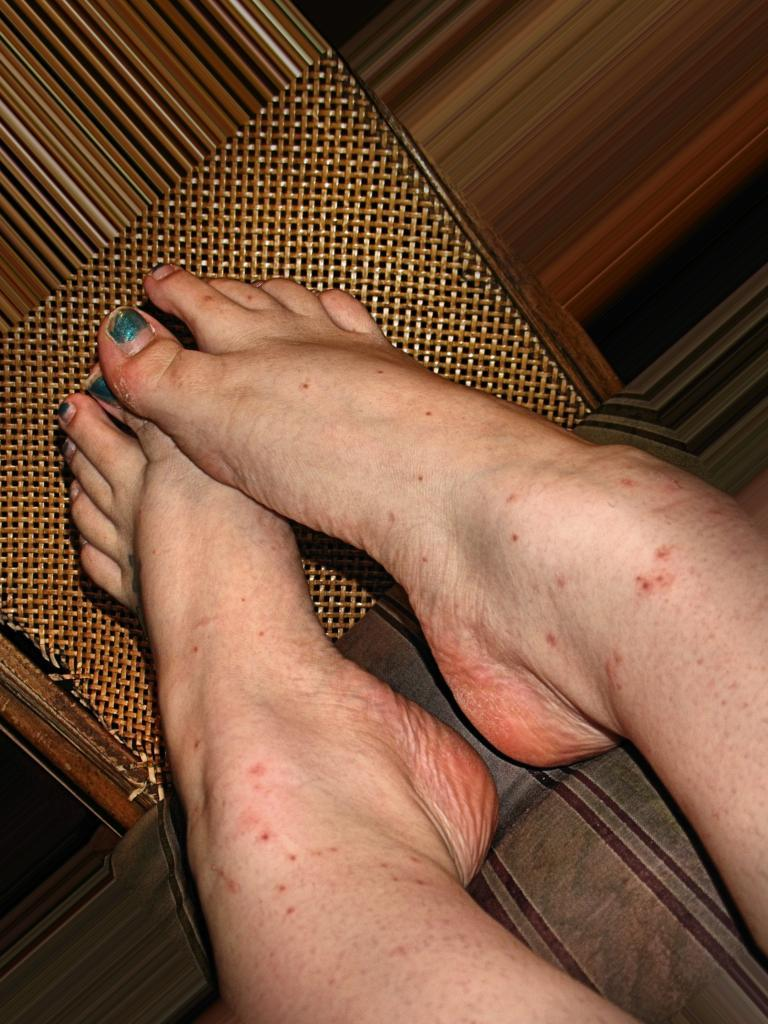Fleas: (229, 802, 282, 858), (634, 569, 674, 599), (241, 757, 274, 792), (614, 474, 640, 499), (505, 489, 523, 508), (282, 850, 300, 866)
